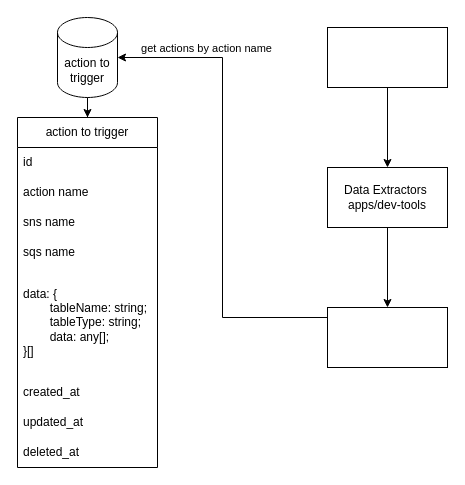
Image size: 465x485. Some labels were removed from this diagram. The centre of each missing label's shape, as x and y in pixels:
dev-tools/actions: (387,337)
Retool: (387,57)
